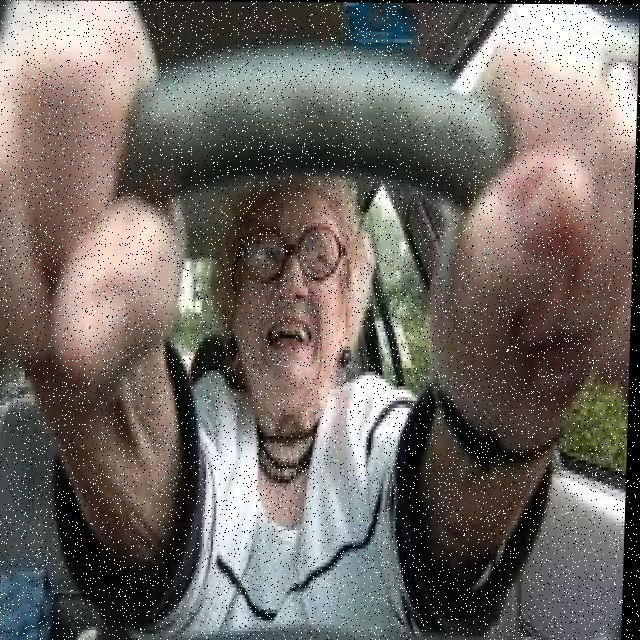noSeatbelt: (170, 388, 416, 640)
